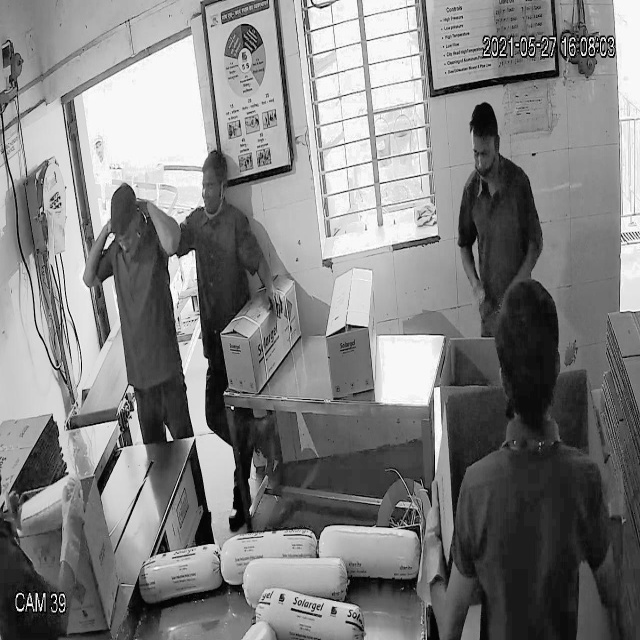Sin_gafas: (466, 132, 503, 169), (111, 220, 143, 252)
